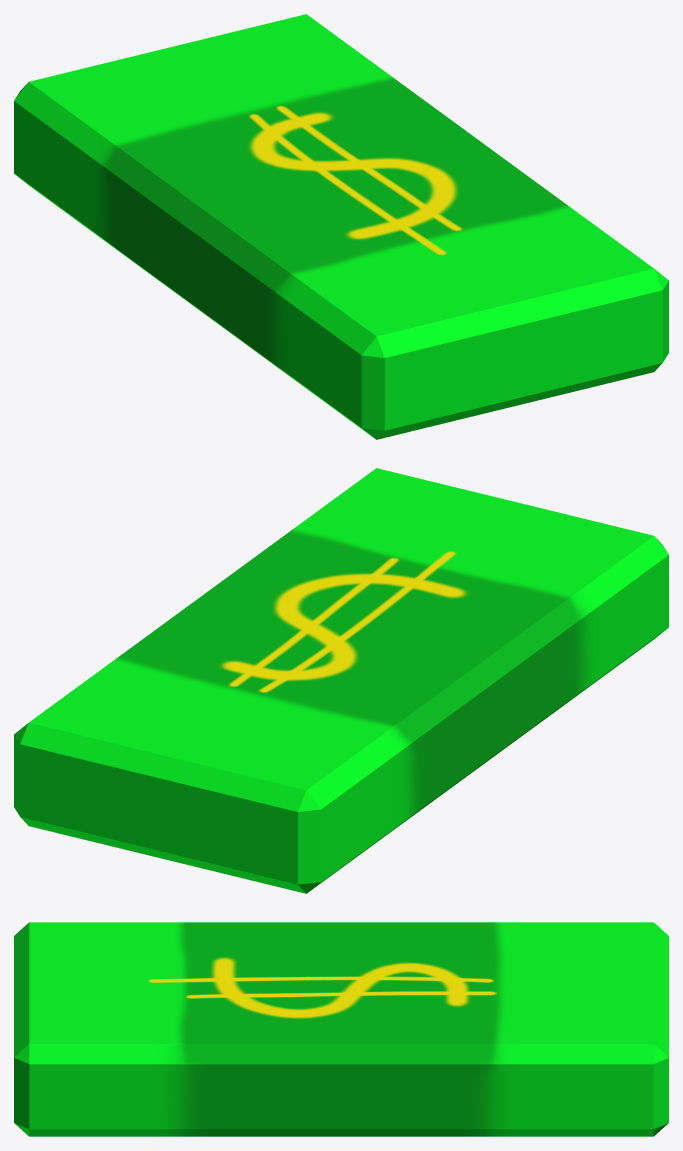
The model's file is money.fbx.
3 views of the same model, one above another, from view 1: azimuth 30°, elevation 25°; view 2: azimuth 150°, elevation 25°; view 3: azimuth 270°, elevation 25° (orthographic). The views are drawn at different scales.
Parts seen in each view (by area): view 1: Cube.001; view 2: Cube.001; view 3: Cube.001.
Boxes of the visible parts, x1,y1,x2,y2 form: Cube.001: (14, 14, 668, 439); Cube.001: (14, 468, 668, 893); Cube.001: (14, 922, 668, 1136).
Bounding box in the file's own units: 0.1071 × 0.0345 × 0.2203.
